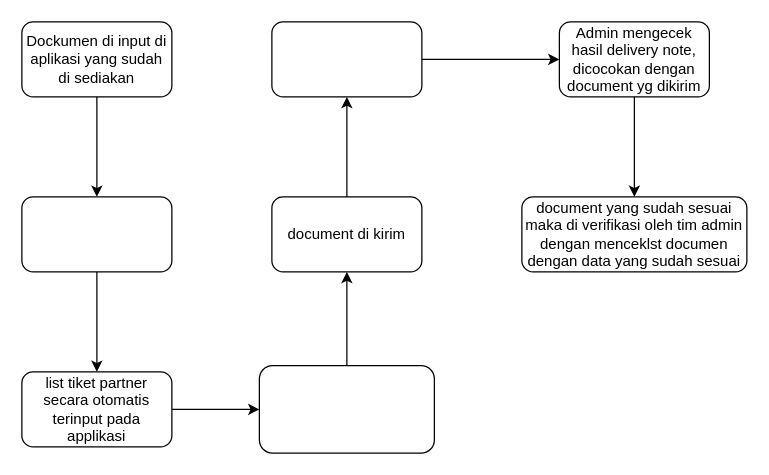
This 769x475 diagram has some shape labels left out. The shapes that lost their labels are listed below. From the top down, each one's box as (x1, y1, x2, y2) in pixels, then its label:
(271, 21, 422, 97): ketika document di terima maka admin input delivery note
(21, 196, 172, 272): Aplikasi menerima excel yang di kirim atau di upload oleh partner
(258, 364, 434, 453): print delivery note pada aplikasi, dan tempelkan pada amplop yang akan di kirim
